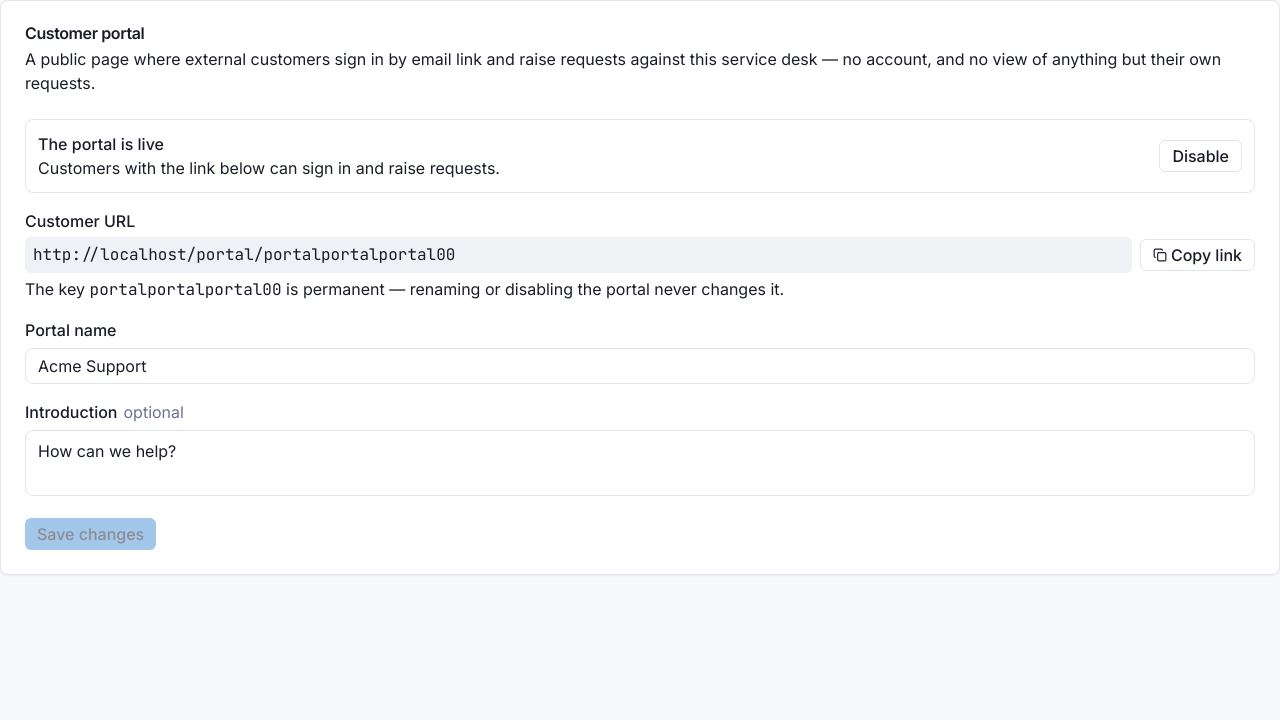
Test case: PortalSection copy control › copies the full customer URL, not the bare key
The image size is (1280, 720).
Click the button with test id "portal-config-copy": (1197, 255) [1140, 239, 1255, 271]
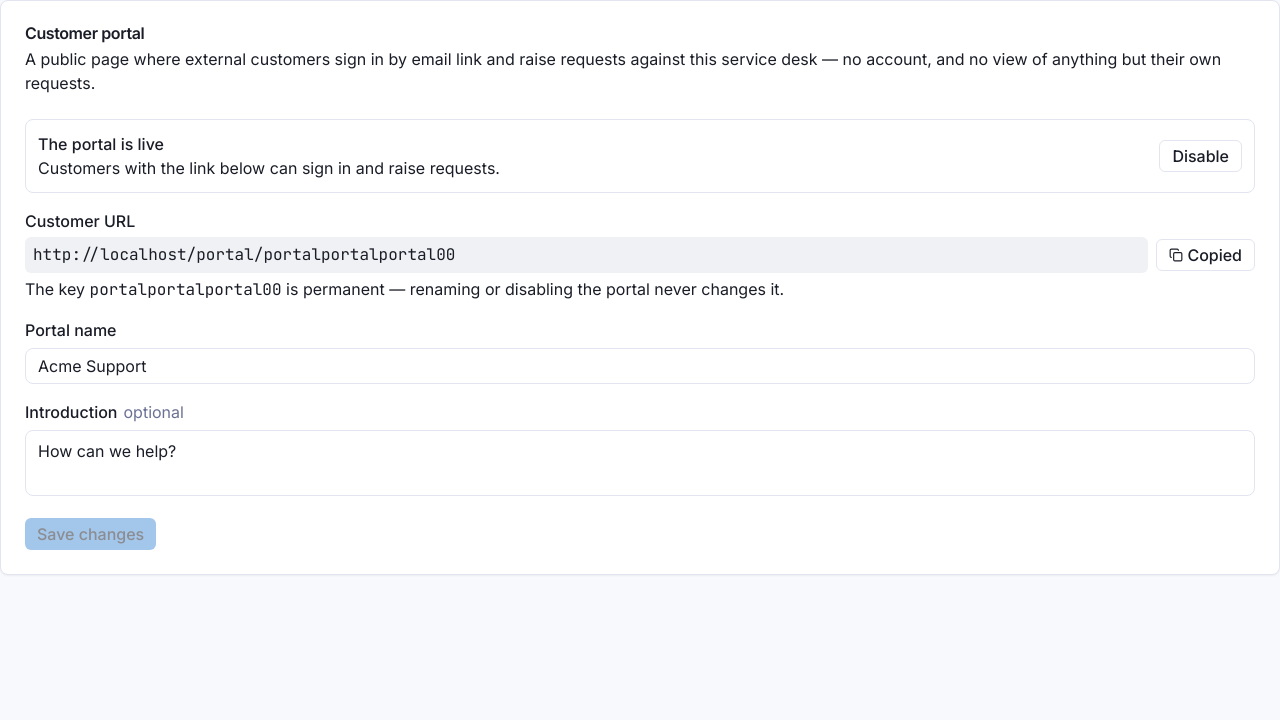
Now the button with test id "portal-config-copy" reads "Copied", box [1156, 239, 1255, 271]
